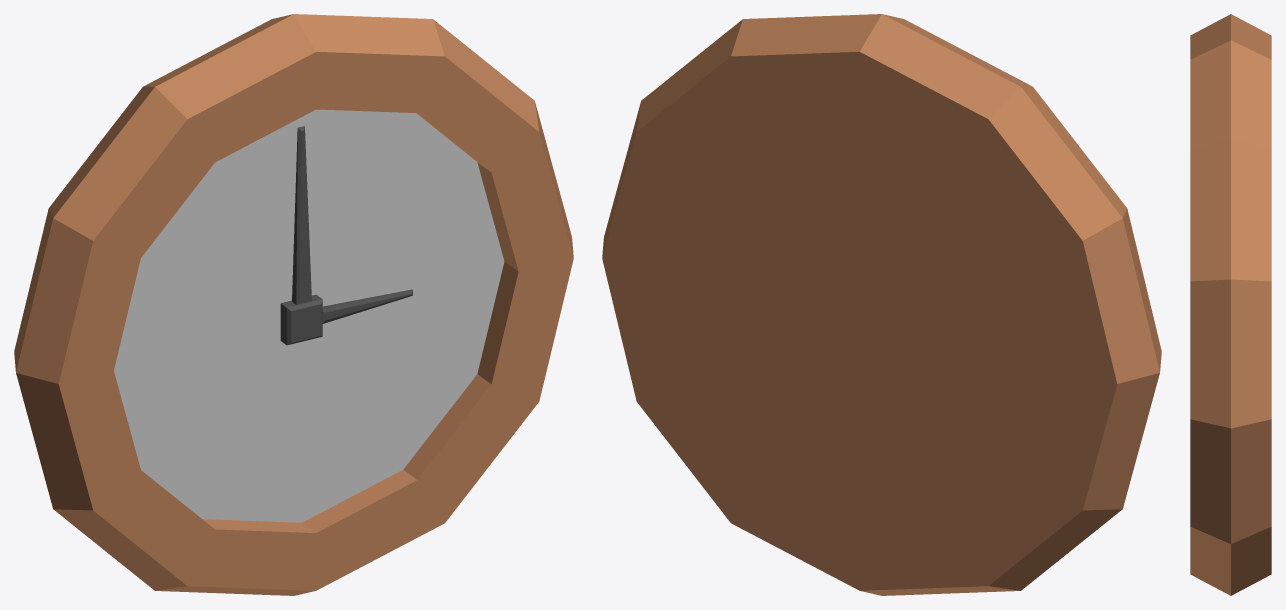
The model's file is Clock.glb.
3 views of the same model, side by side, from view 1: azimuth 30°, elevation 25°; view 2: azimuth 150°, elevation 25°; view 3: azimuth 270°, elevation 25° (orthographic). The views are drawn at different scales.
Parts seen in each view (by area): view 1: Clock; view 2: Clock; view 3: Clock.
Boxes of the visible parts, x1,y1,x2,y2 form: Clock: (14, 14, 573, 595); Clock: (602, 14, 1161, 595); Clock: (1190, 14, 1271, 595).
Size of the model in its own units: 175 by 175 by 24.31.
